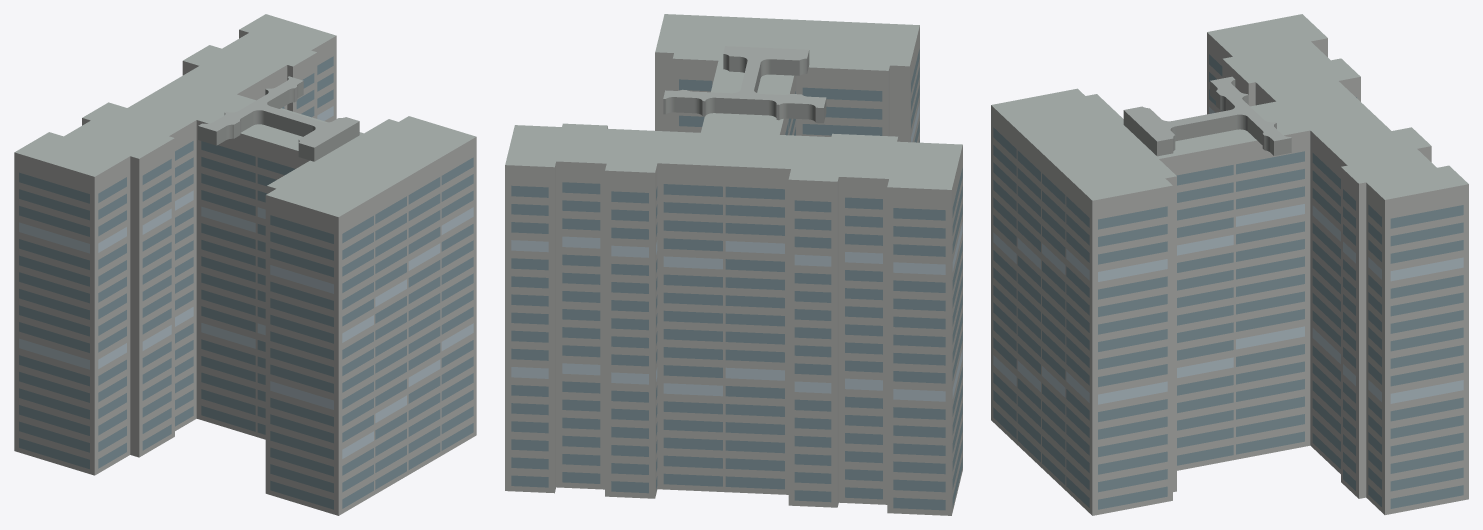
The model's file is apt-a13183202.glb.
3 views of the same model, side by side, from view 1: azimuth 30°, elevation 25°; view 2: azimuth 150°, elevation 25°; view 3: azimuth 270°, elevation 25° (orthographic). The views are drawn at different scales.
Visible parts, largest first — view 1: apt-a13183202; view 2: apt-a13183202; view 3: apt-a13183202.
Boxes of the visible parts, x1,y1,x2,y2 form: apt-a13183202: [14, 14, 476, 515]; apt-a13183202: [505, 14, 962, 515]; apt-a13183202: [991, 14, 1468, 515].
Size of the model in its own units: 60.68 by 50 by 65.61.
